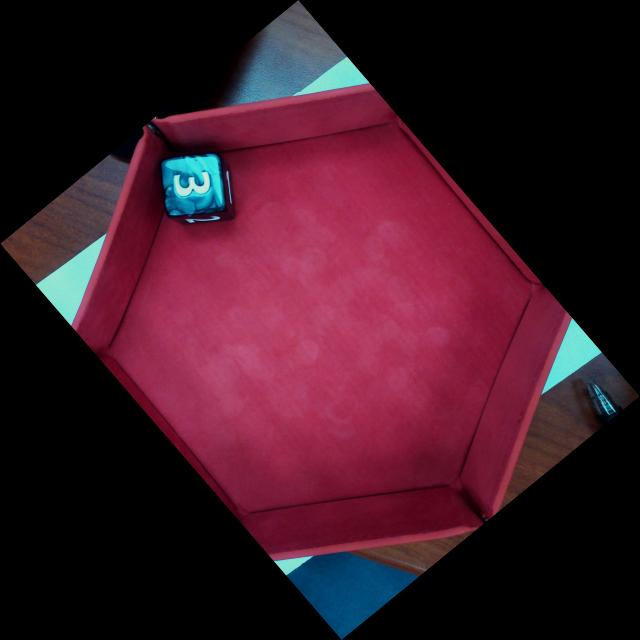dice: (162, 154, 229, 216)
